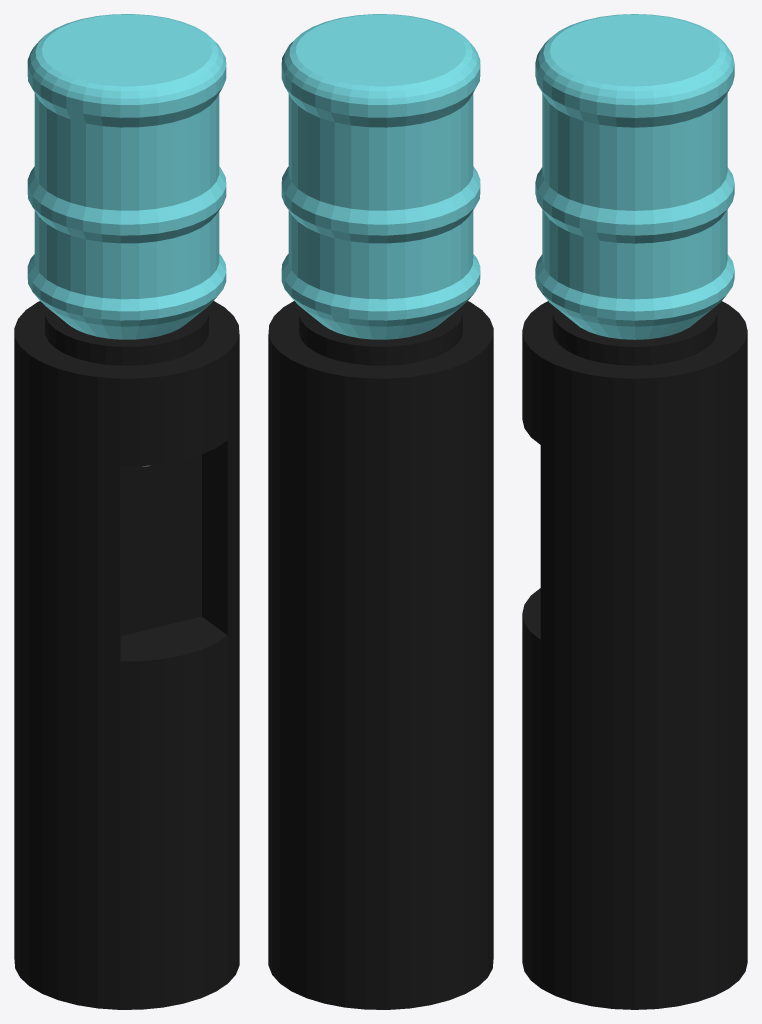
File: WaterDispenser.fbx
3 renders of one model, left to right at view 1: azimuth 30°, elevation 25°; view 2: azimuth 150°, elevation 25°; view 3: azimuth 270°, elevation 25°, orthographic.
Visible parts, largest first — view 1: Cylinder, Cylinder.001; view 2: Cylinder, Cylinder.001; view 3: Cylinder, Cylinder.001.
Part boxes in pixels (bbox=[...]): Cylinder: bbox=[14, 301, 239, 1009]; Cylinder.001: bbox=[27, 14, 226, 339]; Cylinder: bbox=[268, 301, 493, 1009]; Cylinder.001: bbox=[281, 14, 480, 339]; Cylinder: bbox=[522, 301, 747, 1009]; Cylinder.001: bbox=[535, 14, 734, 339].
Size of the model in its own units: 43.9 by 196 by 43.9.
